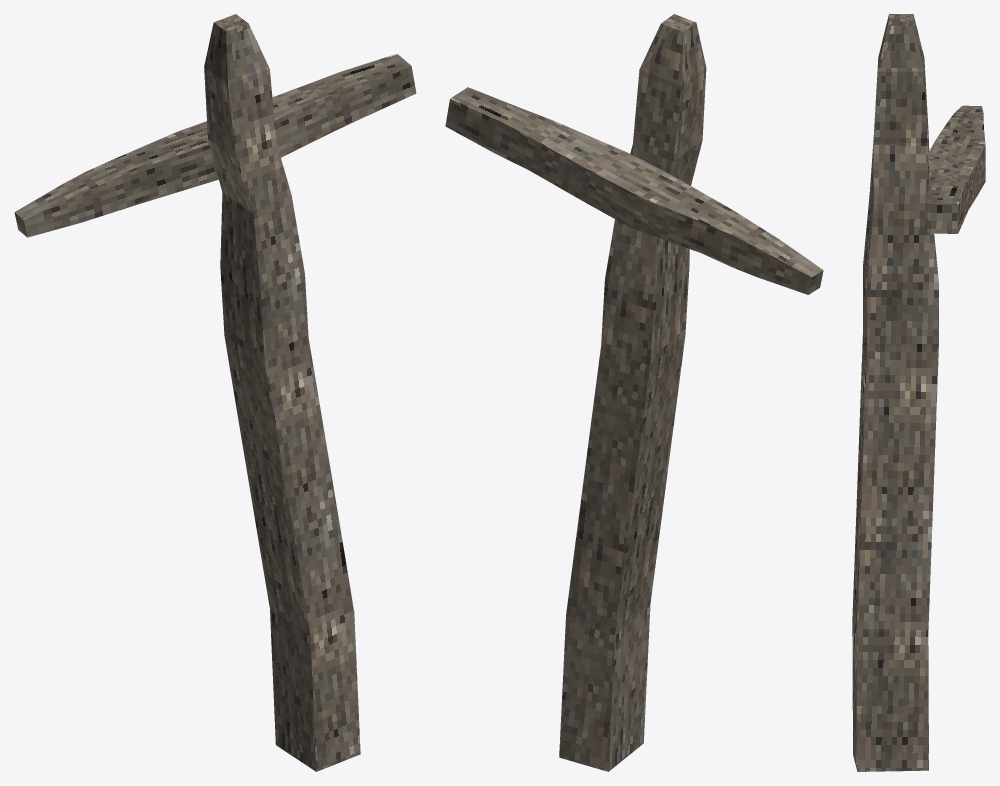
The model's file is cross.glb.
The picture shows the model from 3 angles, left to right: view 1: azimuth 30°, elevation 25°; view 2: azimuth 150°, elevation 25°; view 3: azimuth 270°, elevation 25°; orthographic projection. The views are drawn at different scales.
Visible parts, largest first — view 1: Cube; view 2: Cube; view 3: Cube.
Boxes of the visible parts, x1=… form: Cube: x1=14, y1=14, x2=416, y2=771; Cube: x1=445, y1=14, x2=823, y2=771; Cube: x1=852, y1=14, x2=985, y2=771.
Size of the model in its own units: 0.6275 by 1.19 by 0.2021.
Materials: 1 (1 with a texture image).
